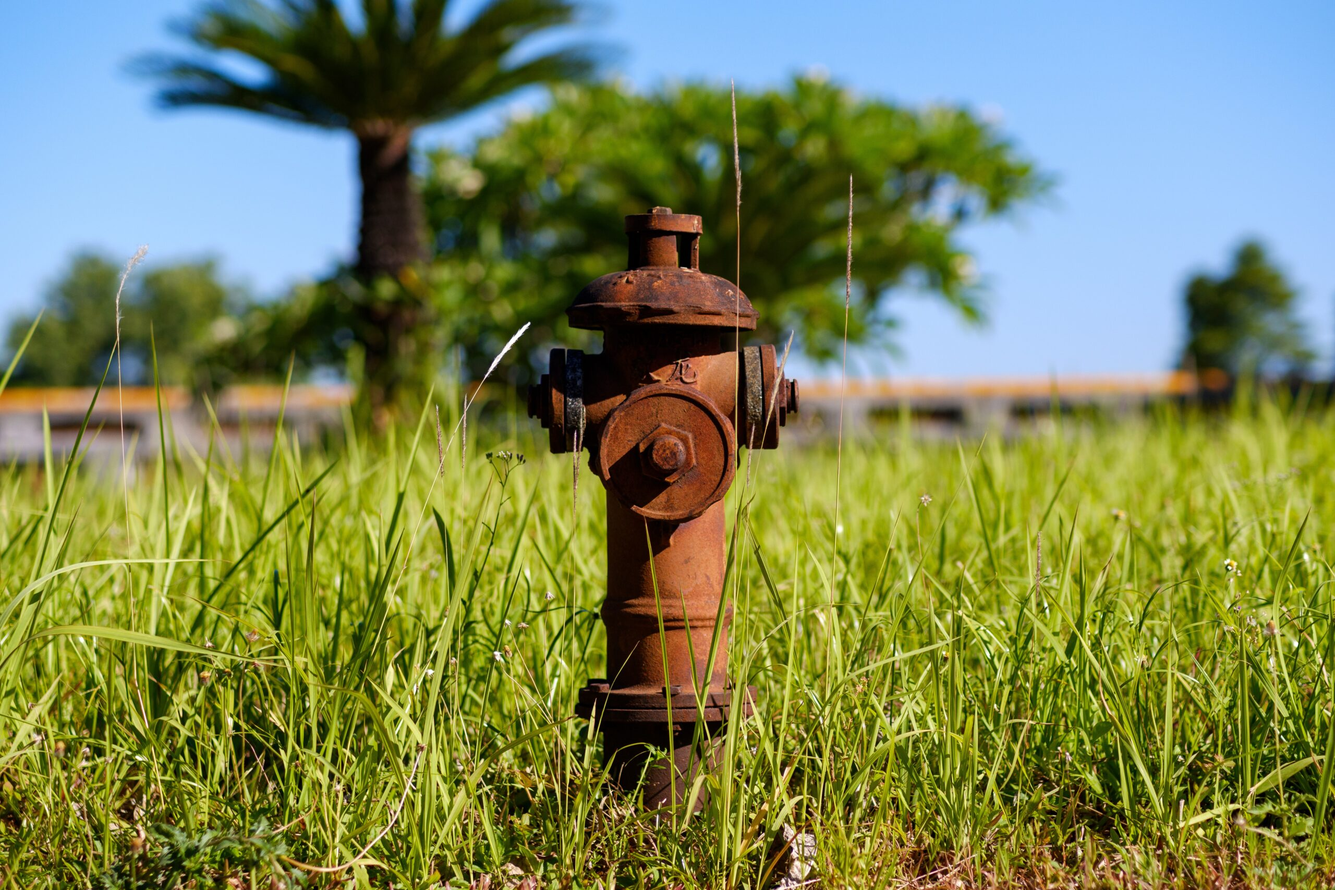FireHydrant: (525, 204, 822, 821)
Tree: (154, 4, 554, 460)
